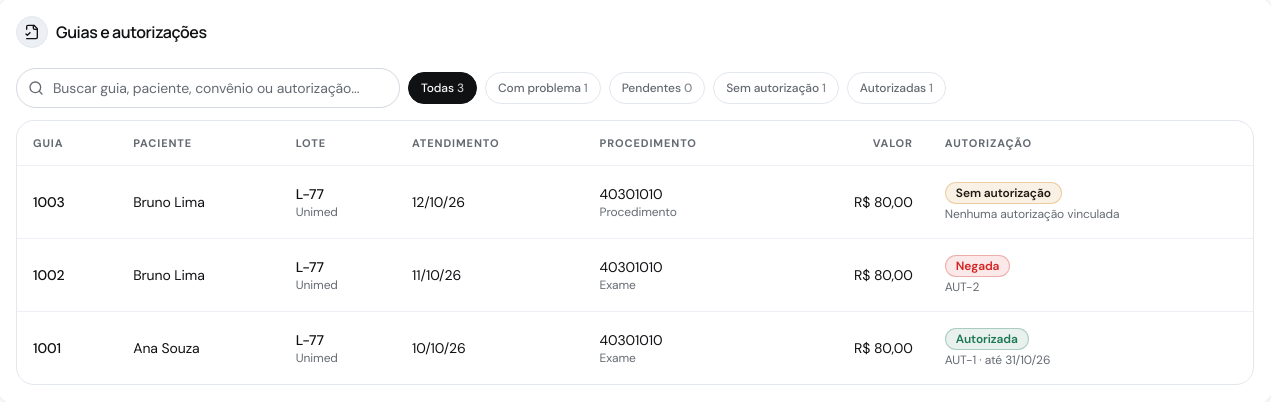
Test: GuiasPorAutorizacao › filtra só as guias com problema
Expected: the text "Ana Souza" is shown, [117,311,280,384]
Click the button "Com problema 1". click: (543, 88)
box: [485,72,601,104]
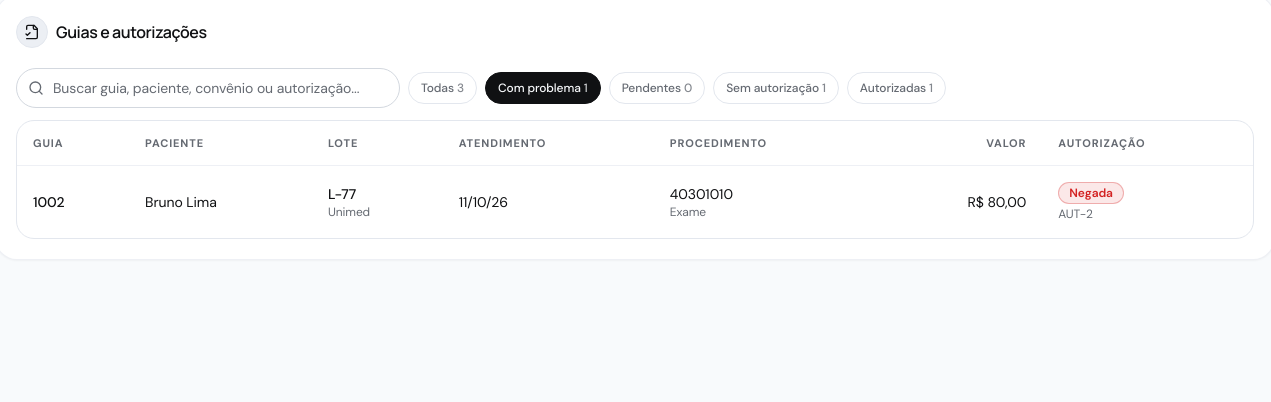
Expected: the text "1002" is shown, [17,165,129,238]
Result: the text "1001" is gone
Result: the text "1003" is gone
